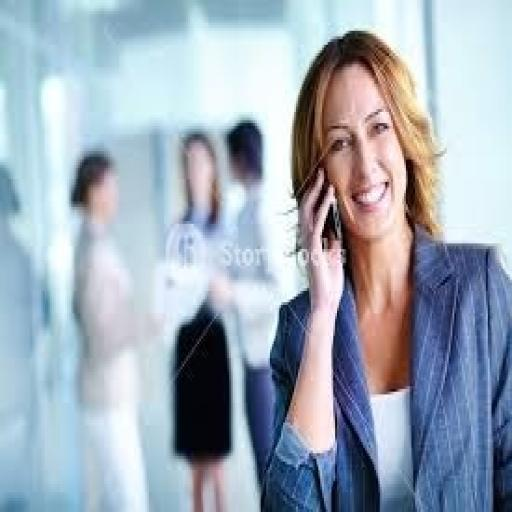calling: (257, 28, 510, 509), (63, 146, 153, 509), (160, 129, 238, 509), (0, 156, 50, 509)
